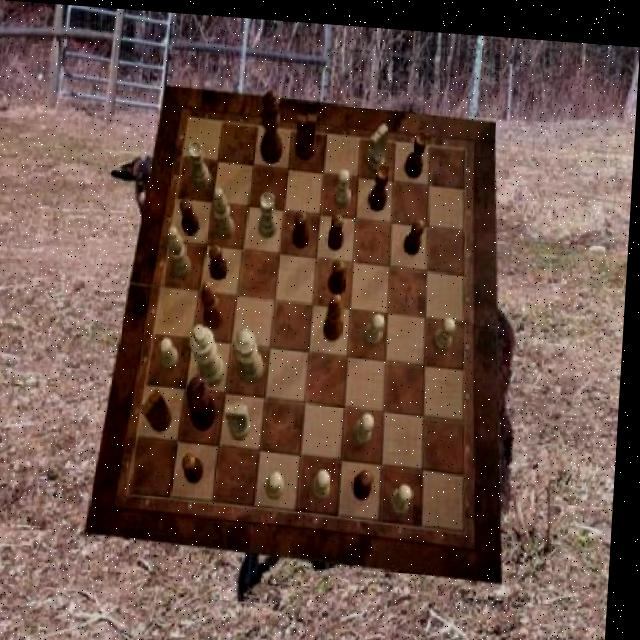bishop: (204, 277, 230, 326), (327, 289, 349, 338)
black-bishop: (190, 371, 222, 428)
black-king: (146, 385, 180, 431), (297, 108, 318, 155)
black-knight: (181, 194, 202, 233), (407, 212, 428, 249), (187, 449, 211, 481), (331, 254, 350, 291), (294, 205, 312, 244), (211, 241, 231, 276), (358, 464, 379, 496), (329, 209, 347, 246)
black-pawn: (261, 86, 288, 161)
black-queen: (405, 123, 430, 173), (370, 157, 392, 206)
black-rook: (171, 224, 198, 278), (214, 184, 240, 236)
white-bishop: (192, 320, 232, 385)
white-king: (367, 117, 390, 169), (228, 399, 256, 436)
white-knight: (436, 311, 460, 348), (394, 478, 419, 512), (163, 333, 185, 369), (368, 307, 390, 343), (336, 163, 355, 203), (358, 406, 379, 442), (317, 464, 336, 498), (270, 468, 291, 496)
white-pawn: (237, 324, 270, 380)
white-queen: (189, 137, 214, 185), (261, 188, 282, 235)
